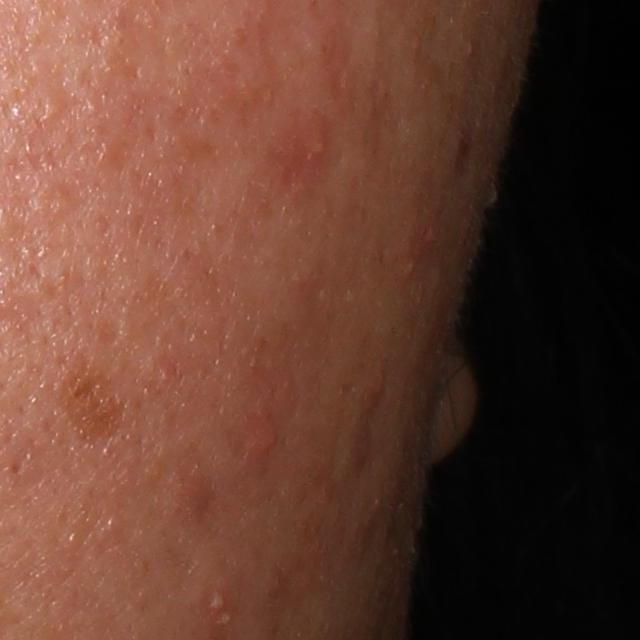papule: (241, 425, 286, 460)
pustule: (198, 577, 239, 629)
